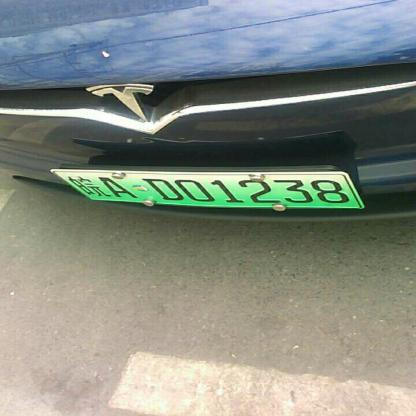lp: (51, 168, 364, 211)
